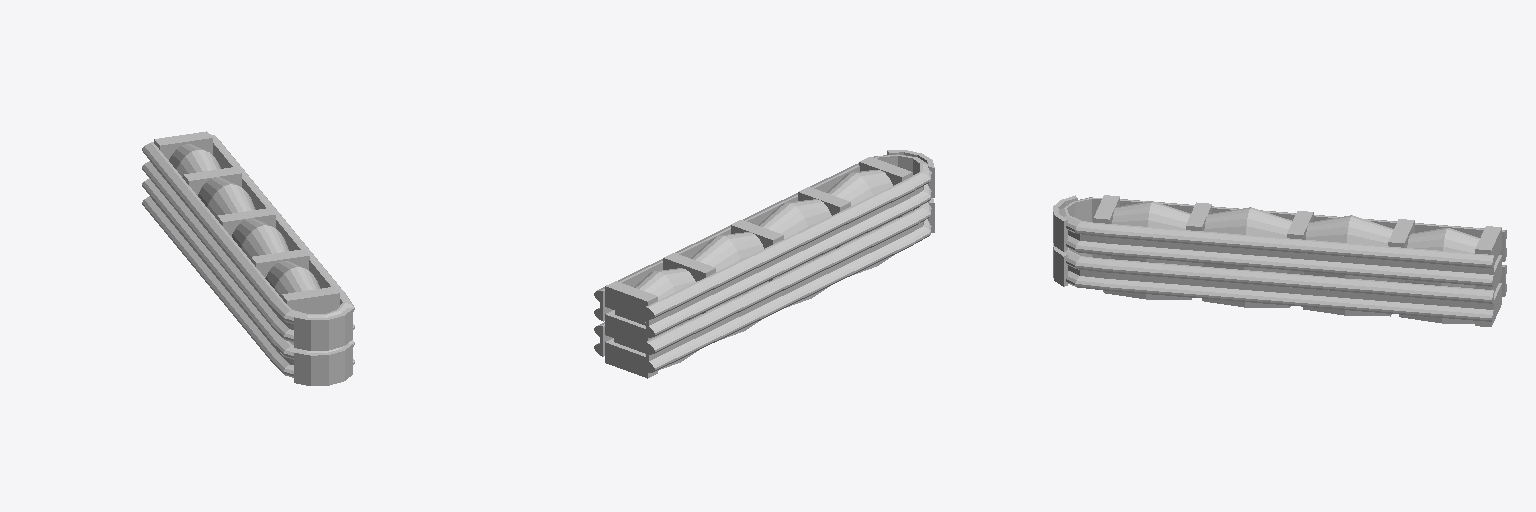
File: Road12_2_11.obj
3 views of the same model, side by side, from view 1: azimuth 30°, elevation 25°; view 2: azimuth 150°, elevation 25°; view 3: azimuth 270°, elevation 25° (orthographic).
Parts seen in each view (by area): view 1: GSDAtten_Static(Clone); view 2: GSDAtten_Static(Clone); view 3: GSDAtten_Static(Clone).
Part boxes in pixels (left/top/right/bottom): GSDAtten_Static(Clone): left=142, top=131, right=354, bottom=385; GSDAtten_Static(Clone): left=594, top=150, right=934, bottom=378; GSDAtten_Static(Clone): left=1053, top=195, right=1506, bottom=326.
Bounding box in the file's own units: 1.37 × 0.8398 × 3.97.